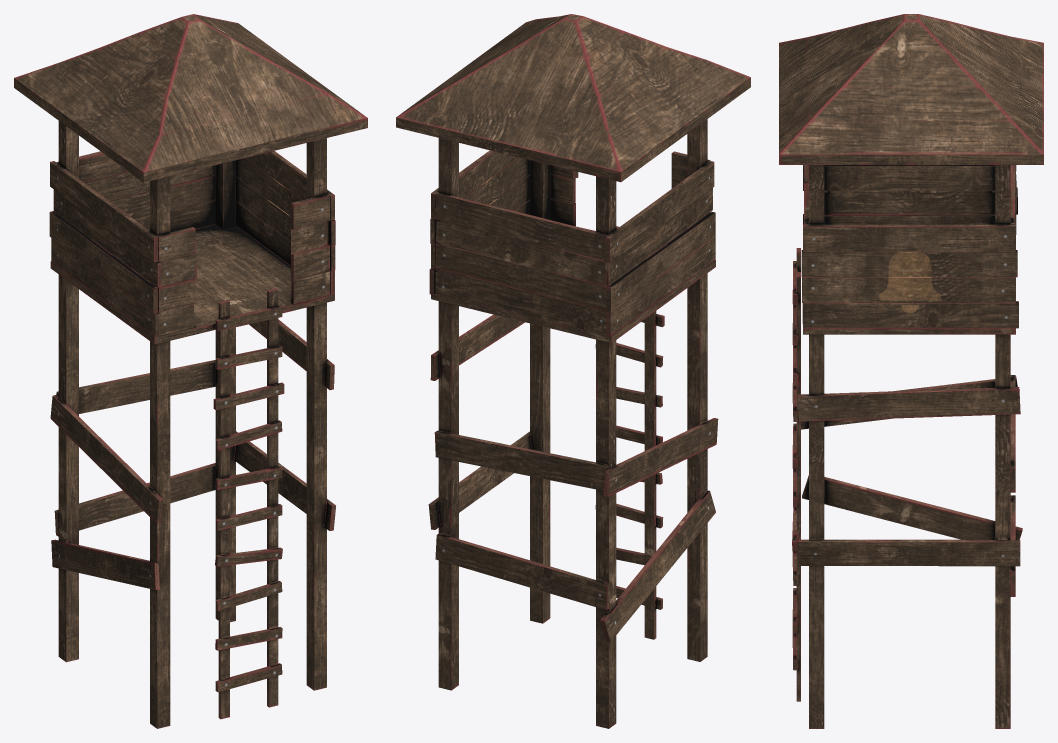
The model's file is watchtower.obj.
3 views of the same model, side by side, from view 1: azimuth 30°, elevation 25°; view 2: azimuth 150°, elevation 25°; view 3: azimuth 270°, elevation 25° (orthographic). The views are drawn at different scales.
Parts seen in each view (by area): view 1: watchtower; view 2: watchtower; view 3: watchtower.
Boxes of the visible parts, box(x1,y1,x2,y2) form: watchtower: box(14, 14, 367, 728); watchtower: box(396, 14, 750, 728); watchtower: box(779, 14, 1043, 728).
Size of the model in its own units: 2.06 by 5.74 by 2.06.
